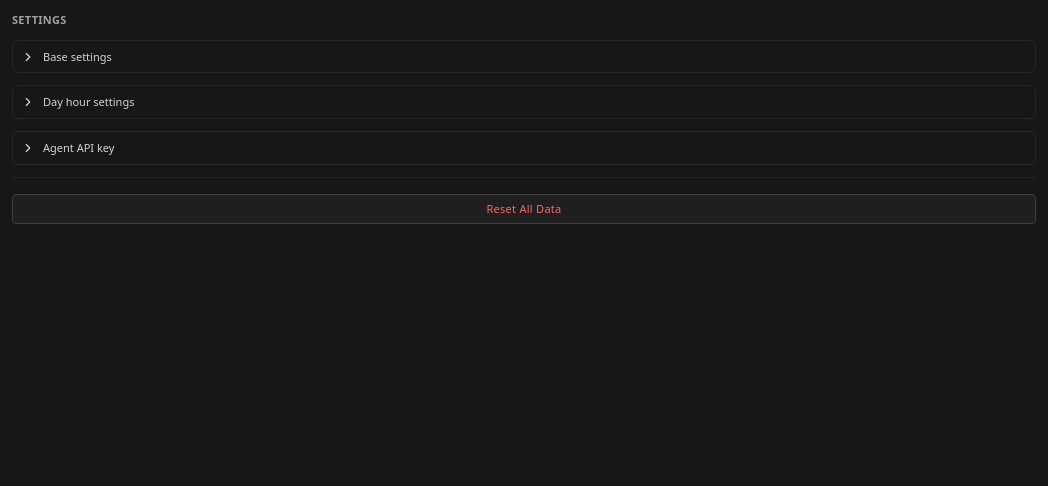
Test: SettingsPanel reset scope › shows a failure indicator when browser storage rejects the save
Click the button "Agent API key": (79, 148) [13,132,1035,164]
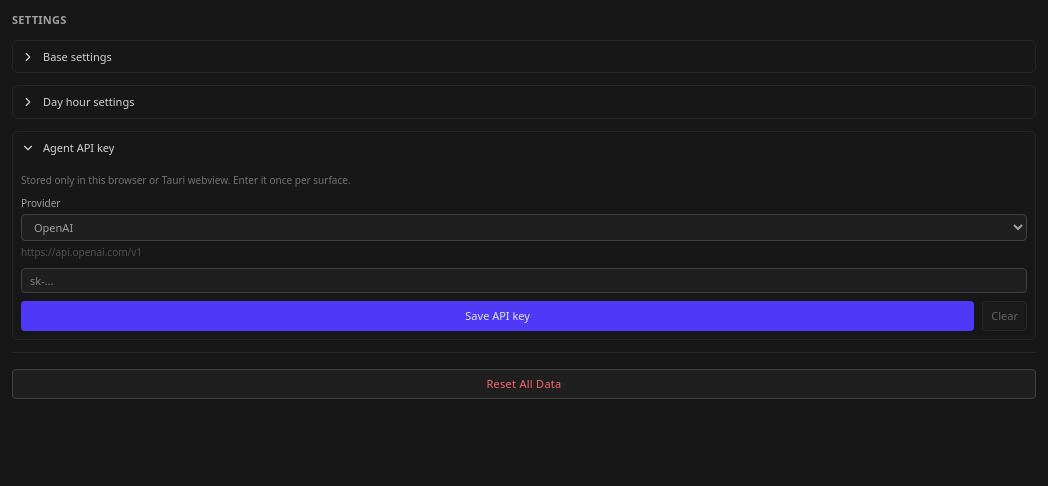
In the password field named "Agent API key": (524, 280) [21,268,1027,293], type "secret-key"
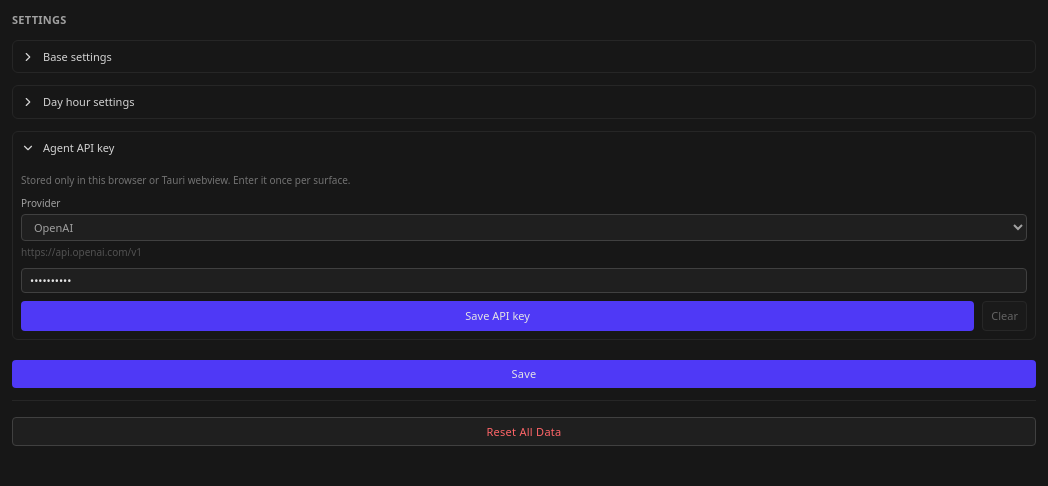
Click the button "Save API key": (498, 316) [21,301,974,331]
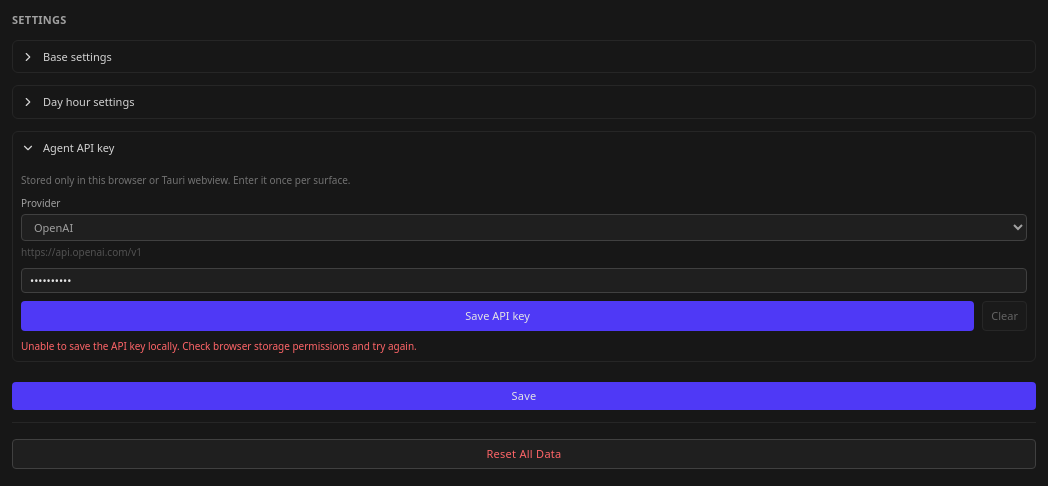
Expected: the message shows "Unable to save the API key locally", [21,339,417,353]
